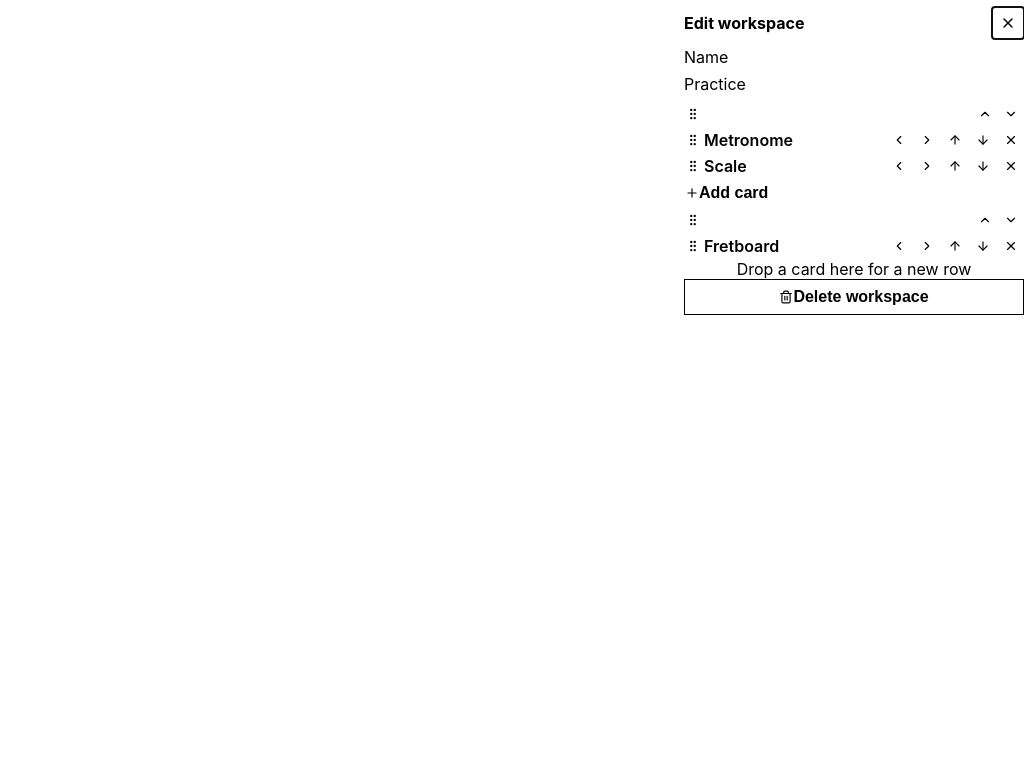
Test: adds a card to a chosen row from the cards not in the workspace
What coordinates should you click on to do the following:
click the button with aria-label "Add card to row 1"
I would click on:
 (727, 192)
Its box is top-left (684, 178), bottom-right (769, 206).
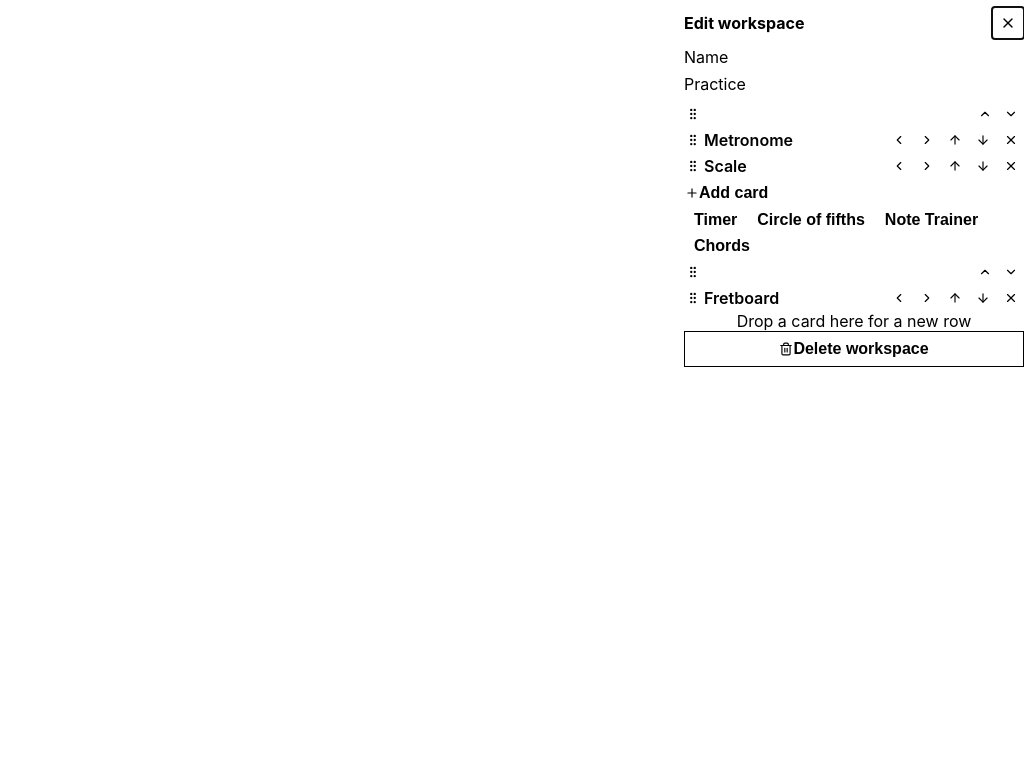
What coordinates should you click on to do the following:
click the menu item "Timer"
I would click on:
 (716, 220)
Its box is top-left (684, 206), bottom-right (747, 232).
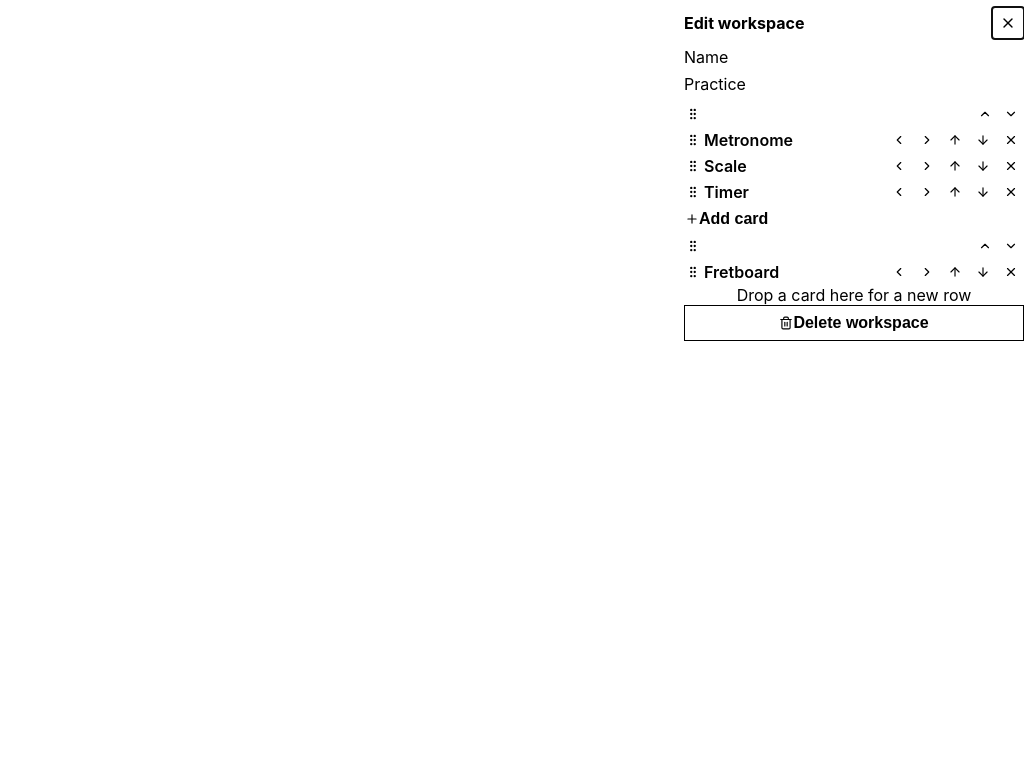
Expected: the menu is gone
